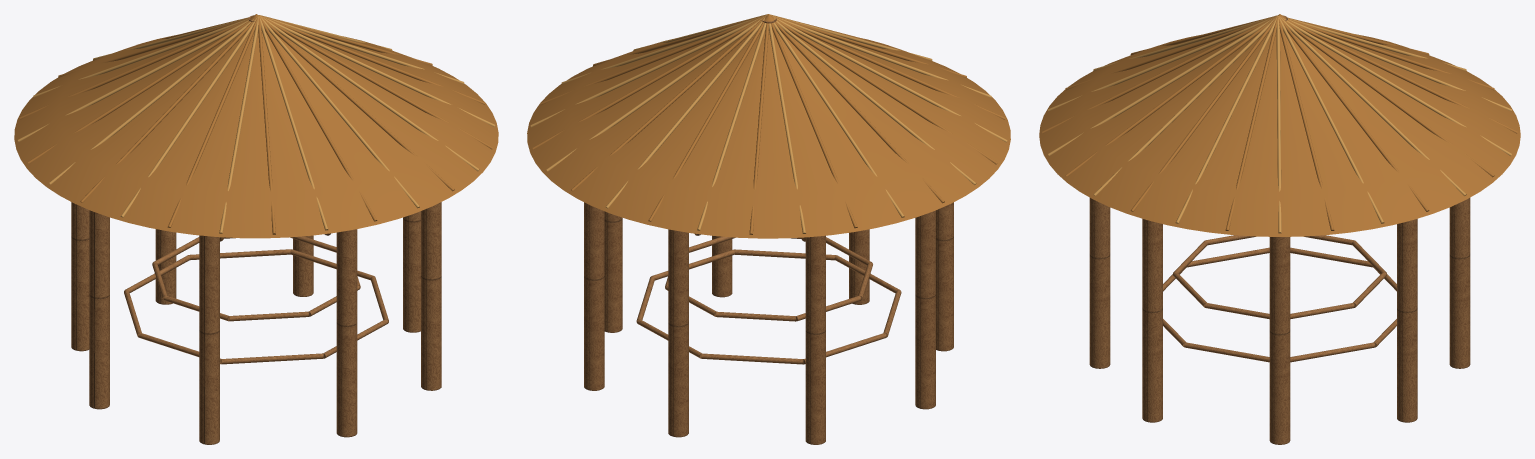
File: Palapa.obj
3 views of the same model, side by side, from view 1: azimuth 30°, elevation 25°; view 2: azimuth 150°, elevation 25°; view 3: azimuth 270°, elevation 25° (orthographic).
Size of the model in its own units: 3.96 by 3.18 by 3.96.
Materials: 3 (1 with a texture image).
